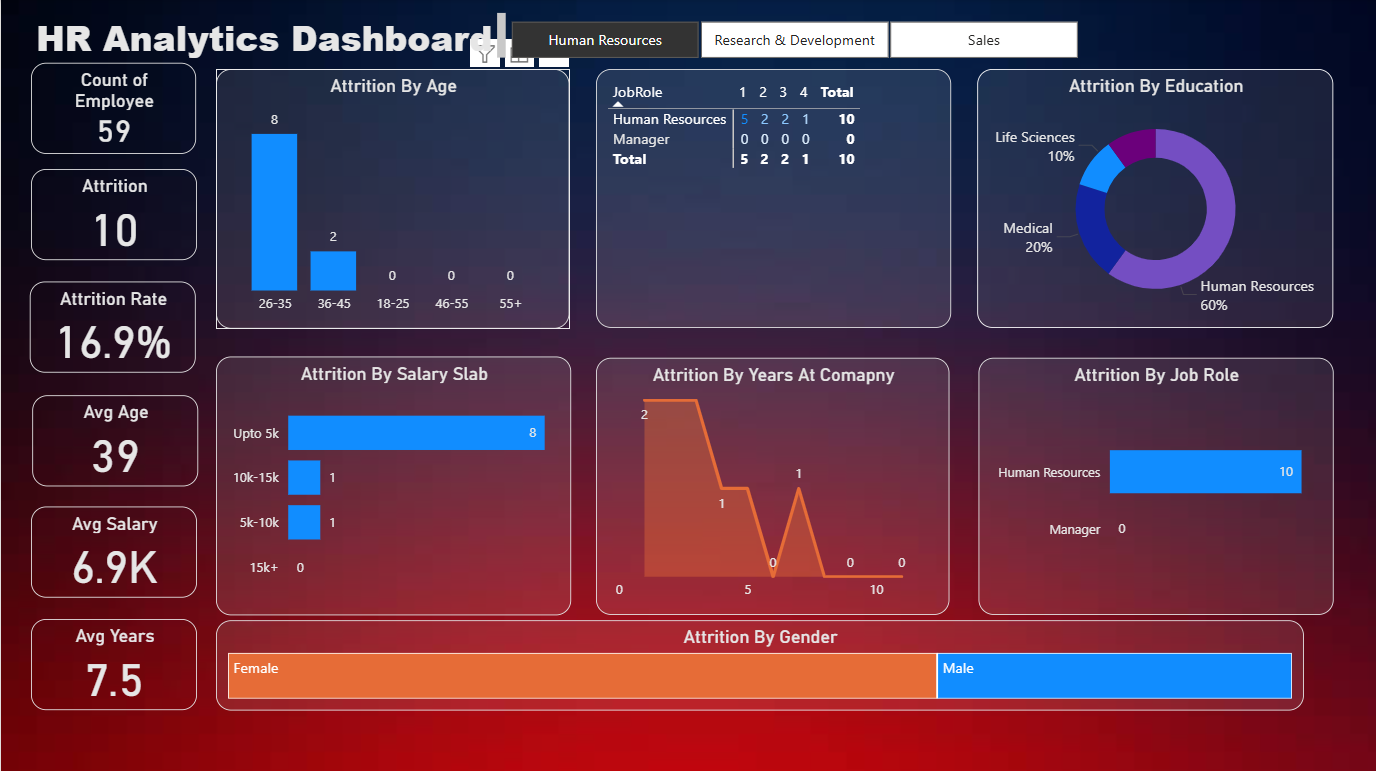

The page's visual inventory and layout, read from the dashboard file:
{"tool":"powerbi","page":{"name":"Page 1","canvas":[1280,720],"ordinal":0},"visuals":[{"type":"card","title":"Attrition","fields":{"Values":["Sum(HR_Analytics.AttritionCount)"]},"box":[27.9,158.1,154.7,84.9],"z":0},{"type":"card","title":"Attrition Rate","fields":{"Values":["HR_Analytics.AttritionRate"]},"box":[26.7,262.8,154.7,84.9],"z":1000},{"type":"card","title":"Avg Age","fields":{"Values":["Avg(HR_Analytics.Age)"]},"box":[29.1,368.6,154.7,84.9],"z":2000},{"type":"card","title":"Avg Salary","fields":{"Values":["Avg(HR_Analytics.MonthlyIncome)"]},"box":[27.9,472.1,154.7,84.9],"z":3000},{"type":"card","title":"Avg Years","fields":{"Values":["Avg(HR_Analytics.YearsAtCompany)"]},"box":[27.9,576.7,154.7,84.9],"z":4000},{"type":"donutChart","title":"Attrition By Education","fields":{"Category":["HR_Analytics.EducationField"],"Y":["Sum(HR_Analytics.AttritionCount)"]},"box":[908.1,65.1,331.4,240.7],"z":5000},{"type":"columnChart","title":"Attrition By Age","fields":{"Category":["HR_Analytics.AgeGroup"],"Y":["Sum(HR_Analytics.AttritionCount)"]},"box":[200,65.1,329.1,241.9],"z":6000},{"type":"pivotTable","fields":{"Rows":["HR_Analytics.JobRole"],"Columns":["HR_Analytics.JobSatisfaction"],"Values":["Sum(HR_Analytics.AttritionCount)"]},"box":[553.5,65.1,330.2,240.7],"z":7000},{"type":"barChart","title":"Attrition By Salary Slab","fields":{"Category":["HR_Analytics.SalarySlab"],"Y":["Sum(HR_Analytics.AttritionCount)"]},"box":[200,332.6,330.2,240.7],"z":8000},{"type":"barChart","title":"Attrition By Job Role","fields":{"Category":["HR_Analytics.JobRole"],"Y":["Sum(HR_Analytics.AttritionCount)"]},"box":[909.3,333.7,330.2,239.5],"z":9000},{"type":"areaChart","title":"Attrition By Years At Comapny","fields":{"Category":["HR_Analytics.YearsAtCompany"],"Y":["Sum(HR_Analytics.AttritionCount)"]},"box":[553.5,333.7,329.1,239.5],"z":10000},{"type":"treemap","title":"Attrition By Gender","fields":{"Group":["HR_Analytics.Gender"],"Values":["Sum(HR_Analytics.AttritionCount)"]},"box":[200,577.9,1011.6,83.7],"z":11000},{"type":"slicer","fields":{"Values":["HR_Analytics.Department"]},"box":[448.8,14,576.7,47.7],"z":12000},{"type":"card","title":"Count of Employee","fields":{"Values":["CountNonNull(HR_Analytics.EmpID)"]},"box":[27.9,59.3,153.5,84.9],"z":13000},{"type":"textbox","box":[28.3,8.3,446.7,53.3],"z":14000}]}

Visuals, with their boxes in screenshot pixels (x1, y1, x2, y2), scaled from the page's 1280x720 canvas onto the 1376x771 screenshot:
"Attrition" card: left=30, top=169, right=196, bottom=260
"Attrition Rate" card: left=29, top=281, right=195, bottom=372
"Avg Age" card: left=31, top=395, right=198, bottom=486
"Avg Salary" card: left=30, top=506, right=196, bottom=596
"Avg Years" card: left=30, top=618, right=196, bottom=708
"Attrition By Education" donutChart: left=976, top=70, right=1332, bottom=327
"Attrition By Age" columnChart: left=215, top=70, right=569, bottom=329
pivotTable - HR_Analytics.JobRole x HR_Analytics.JobSatisfaction: left=595, top=70, right=950, bottom=327
"Attrition By Salary Slab" barChart: left=215, top=356, right=570, bottom=614
"Attrition By Job Role" barChart: left=977, top=357, right=1332, bottom=614
"Attrition By Years At Comapny" areaChart: left=595, top=357, right=949, bottom=614
"Attrition By Gender" treemap: left=215, top=619, right=1302, bottom=708
slicer - HR_Analytics.Department: left=482, top=15, right=1102, bottom=66
"Count of Employee" card: left=30, top=64, right=195, bottom=154
textbox: left=30, top=9, right=511, bottom=66
